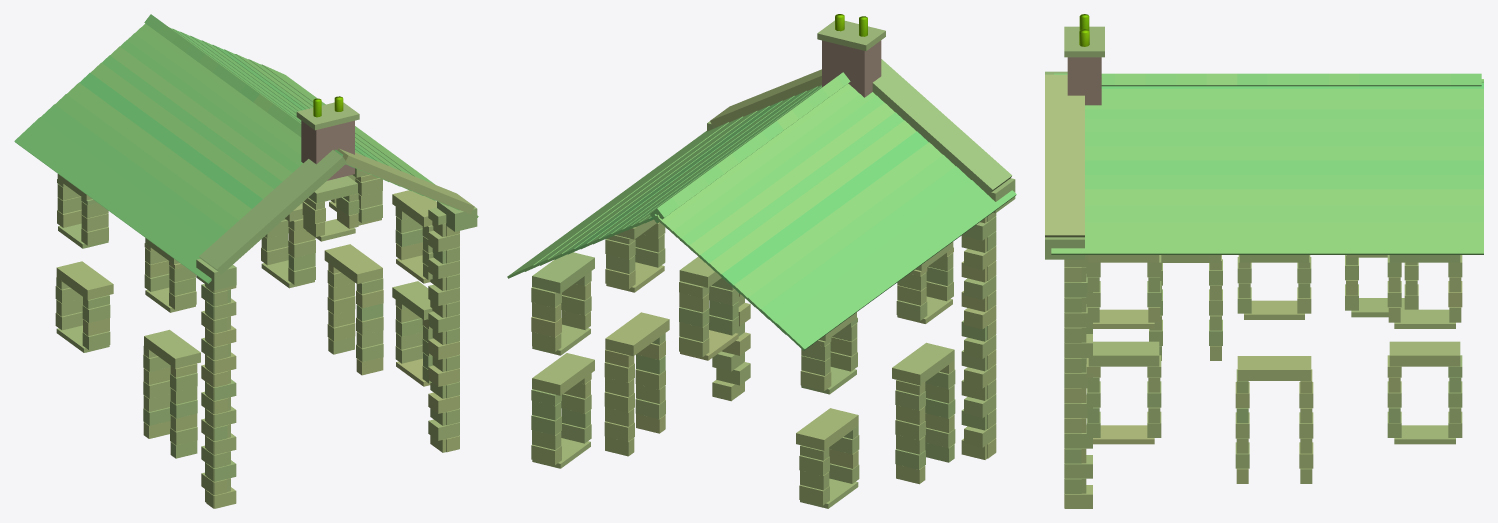
Rendered from SM_Bld_216_Stone.glb.
3 views of the same model, side by side, from view 1: azimuth 30°, elevation 25°; view 2: azimuth 150°, elevation 25°; view 3: azimuth 270°, elevation 25° (orthographic). The views are drawn at different scales.
Parts seen in each view (by area): view 1: SM_Bld_216_Stone; view 2: SM_Bld_216_Stone; view 3: SM_Bld_216_Stone.
Part boxes in pixels (<box>): SM_Bld_216_Stone: <box>14,14,478,508</box>; SM_Bld_216_Stone: <box>507,14,1016,508</box>; SM_Bld_216_Stone: <box>1045,14,1483,508</box>.
Size of the model in its own units: 6.32 by 8.34 by 7.9.
